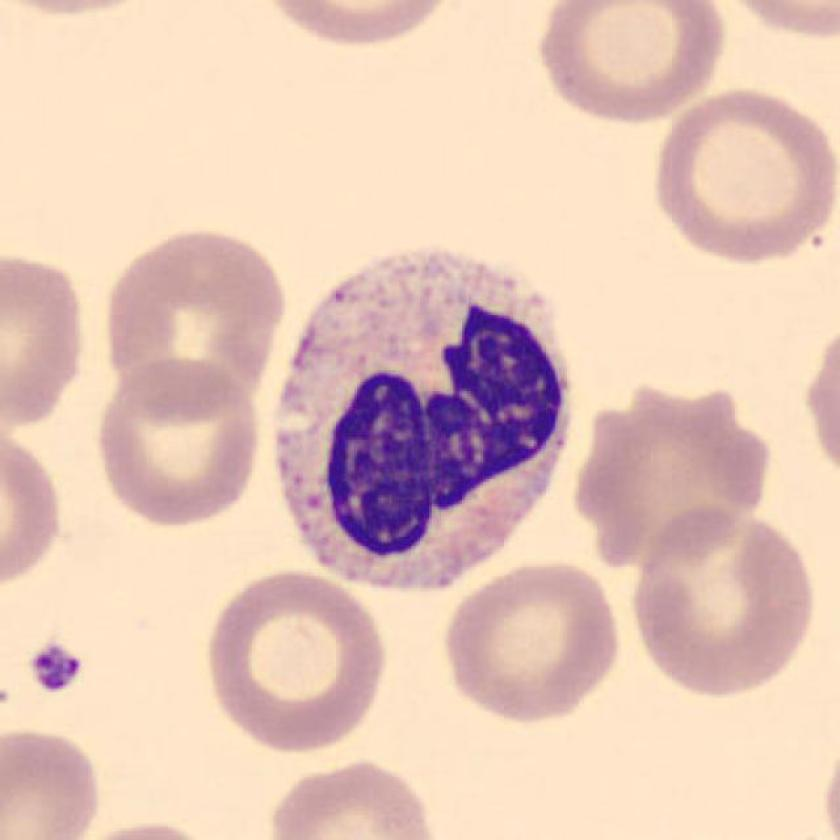neutrophil: (278, 248, 572, 593)
